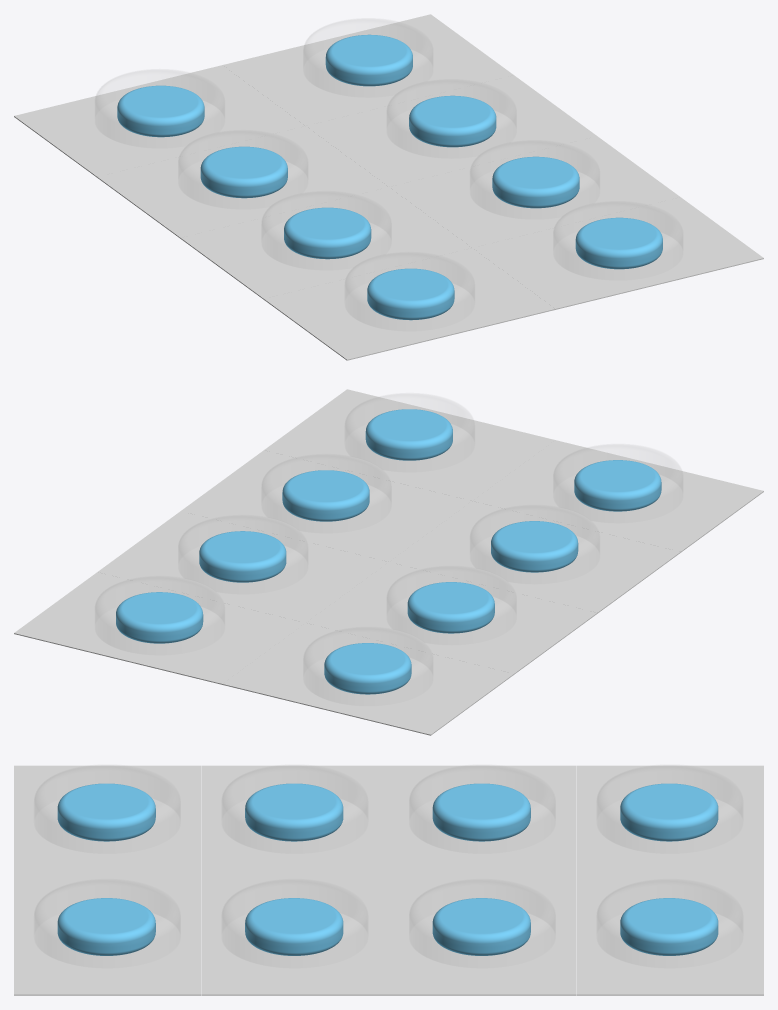
File: Round_Pill_2x4_Blue.glb
3 views of the same model, one above another, from view 1: azimuth 30°, elevation 25°; view 2: azimuth 150°, elevation 25°; view 3: azimuth 270°, elevation 25° (orthographic). The views are drawn at different scales.
Visible parts, largest first — view 1: Round_Pill_Base_2x4, Round_Pill_2x4, Round_Pill_Shell_2x4, Round_Pill_Lid_2x4; view 2: Round_Pill_Base_2x4, Round_Pill_2x4, Round_Pill_Lid_2x4, Round_Pill_Shell_2x4; view 3: Round_Pill_Base_2x4, Round_Pill_2x4, Round_Pill_Shell_2x4, Round_Pill_Lid_2x4.
Boxes of the visible parts, bbox=[...] form: Round_Pill_Base_2x4: bbox=[14, 14, 763, 360]; Round_Pill_2x4: bbox=[117, 34, 662, 320]; Round_Pill_Shell_2x4: bbox=[95, 18, 682, 300]; Round_Pill_Lid_2x4: bbox=[94, 48, 683, 331]; Round_Pill_Base_2x4: bbox=[14, 389, 763, 735]; Round_Pill_2x4: bbox=[116, 409, 661, 694]; Round_Pill_Lid_2x4: bbox=[94, 423, 683, 706]; Round_Pill_Shell_2x4: bbox=[95, 393, 682, 674]; Round_Pill_Base_2x4: bbox=[14, 765, 763, 995]; Round_Pill_2x4: bbox=[57, 783, 718, 955]; Round_Pill_Shell_2x4: bbox=[34, 765, 742, 932]; Round_Pill_Lid_2x4: bbox=[33, 798, 743, 968].
Size of the model in its own units: 6.8 by 0.4541 by 9.41.
